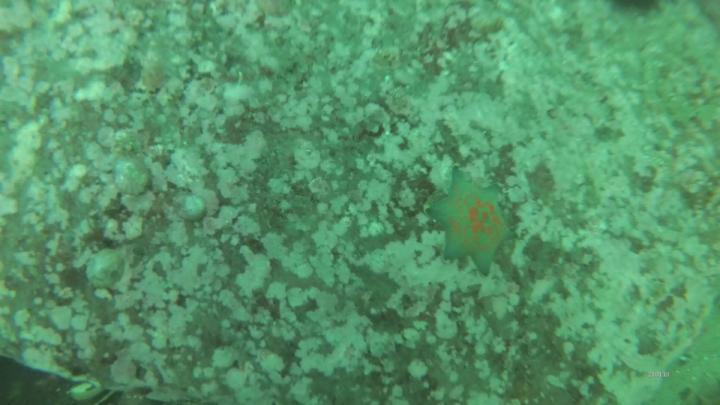starfish: (432, 173, 514, 275)
